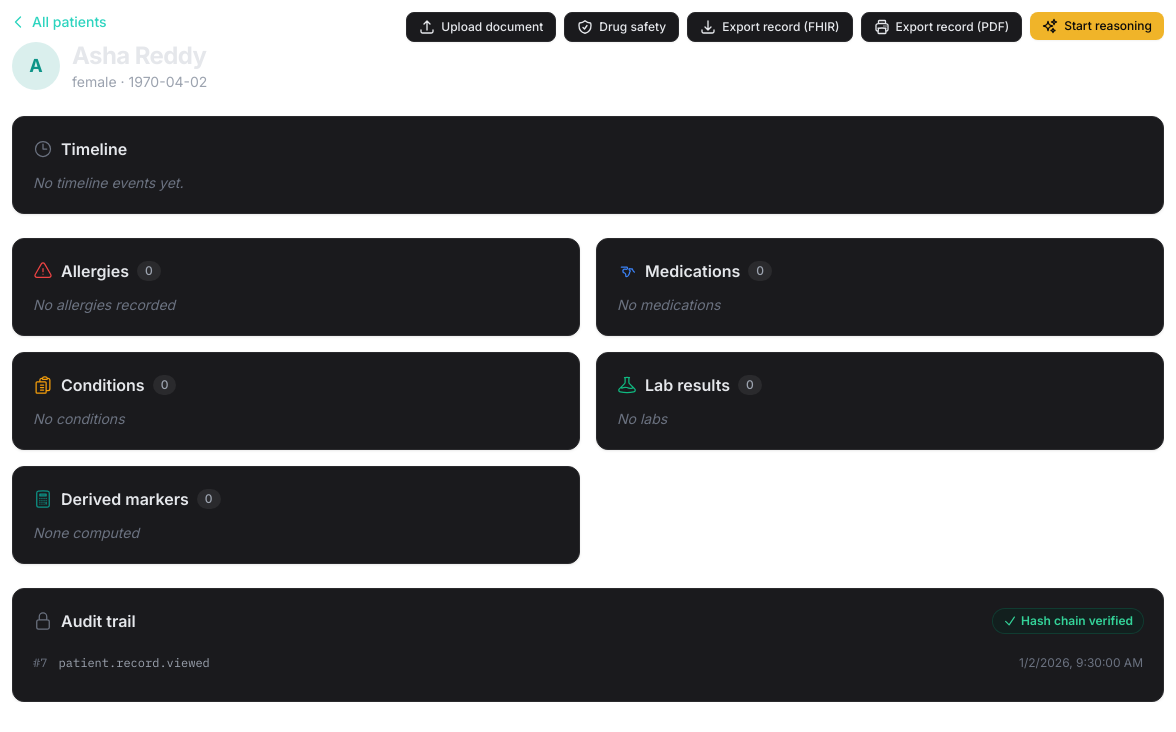
it: record export › says so when the export failed rather than leaving the button looking done
Expected: the heading "Asha Reddy" is shown, 72,40 -> 207,72
Click the button "Export record (FHIR)" at {"x": 770, "y": 27}, box 687,12 -> 852,42
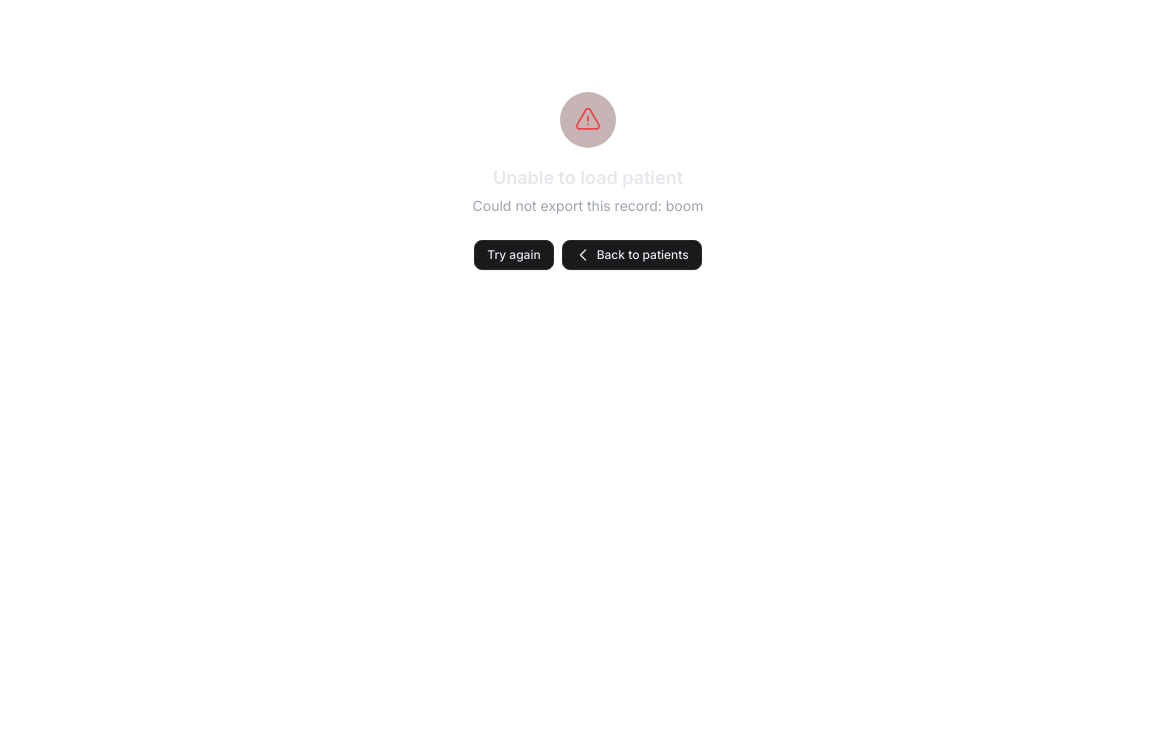
Expected: the message shows "Could not export this record", 473,197 -> 703,214
